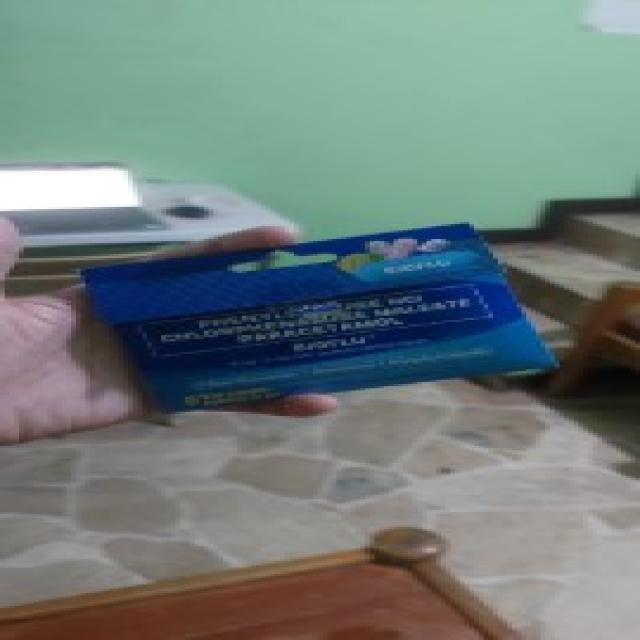Cacat: (72, 218, 560, 414)
